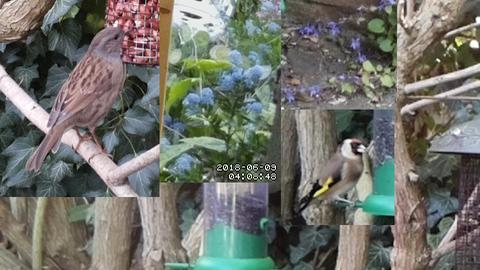dunnock: (25, 25, 134, 172)
goldfinch: (292, 134, 370, 216)
